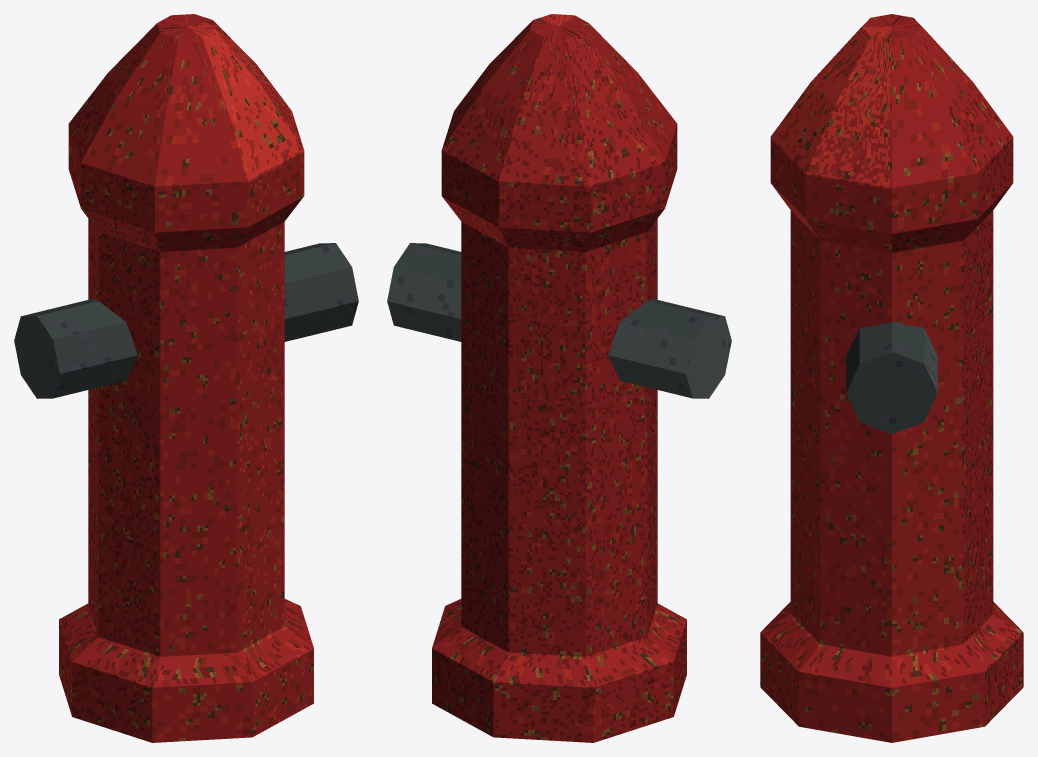
File: fire_hydrant.glb
3 renders of one model, left to right at view 1: azimuth 30°, elevation 25°; view 2: azimuth 150°, elevation 25°; view 3: azimuth 270°, elevation 25°, orthographic.
Visible parts, largest first — view 1: prop; view 2: prop; view 3: prop.
Boxes of the visible parts, x1,y1,x2,y2 form: prop: (14,14,358,742); prop: (387,14,731,742); prop: (760,14,1023,742).
Bounding box in the file's own units: 0.34 × 0.72 × 0.26.
1 material, 1 textured.
